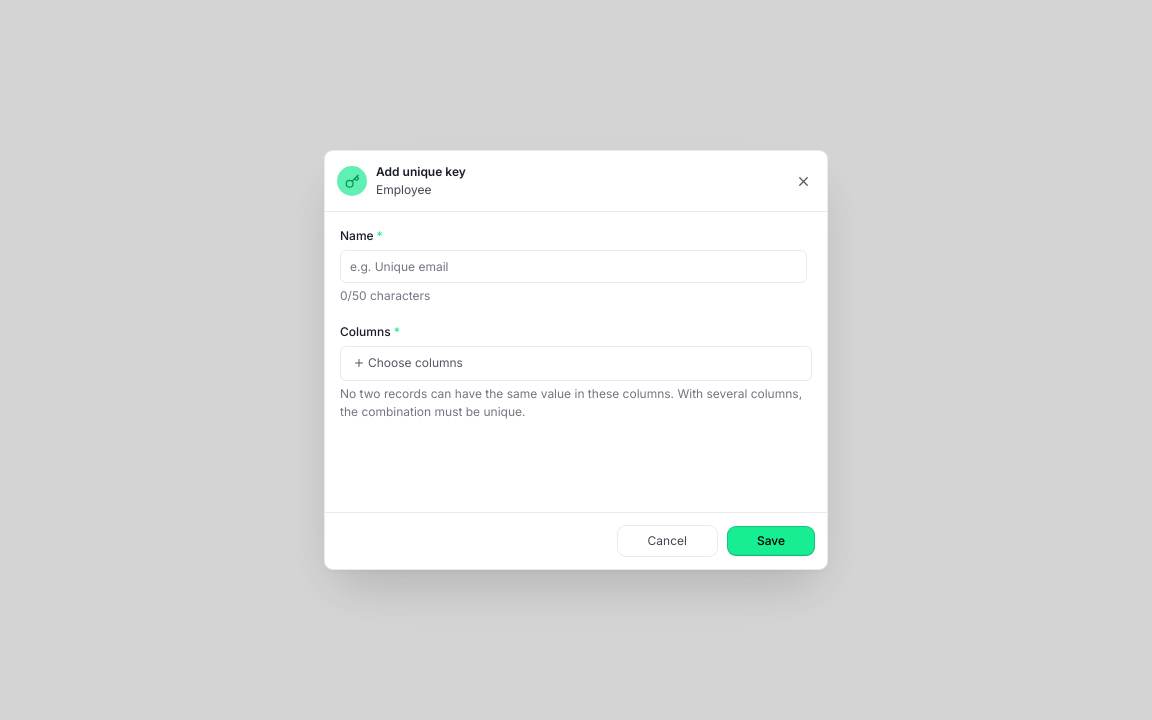
Test case: UniqueKeyFormModal › asks for a column when none is chosen
This screenshot has width=1152, height=720.
Type "Email once" into the field labelled "Name *". click: (574, 266)
box: [340,250,807,282]
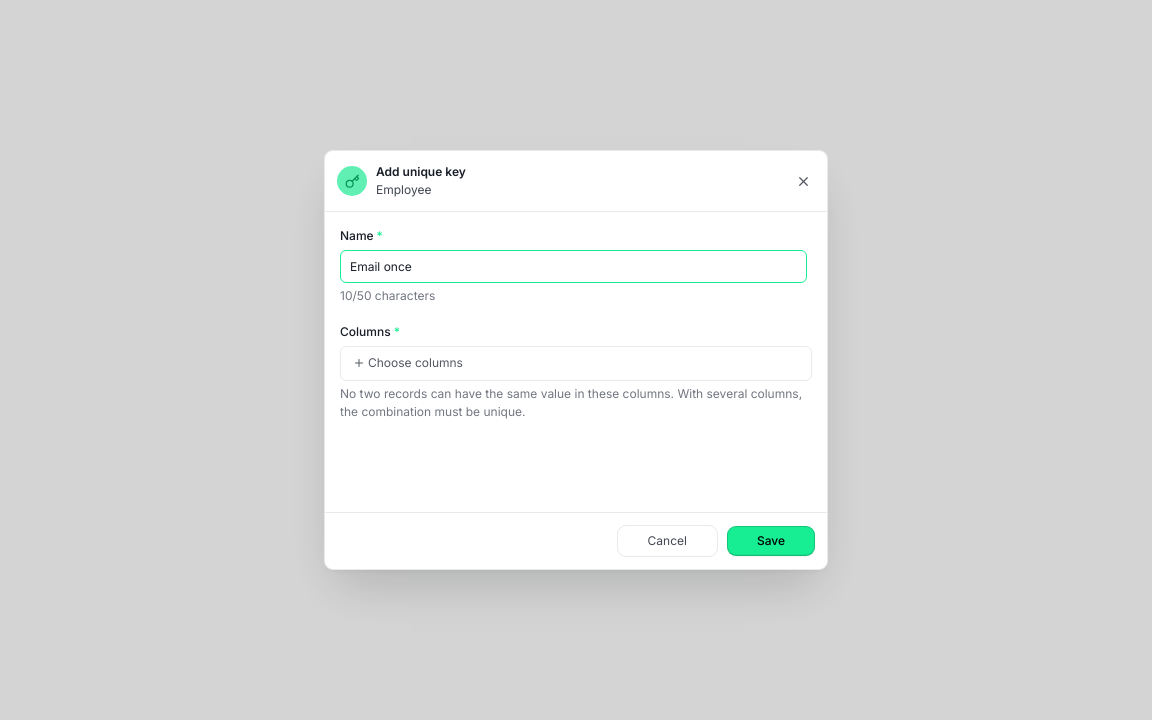
Click the button "Save". click: (771, 541)
box: [727,526,815,556]
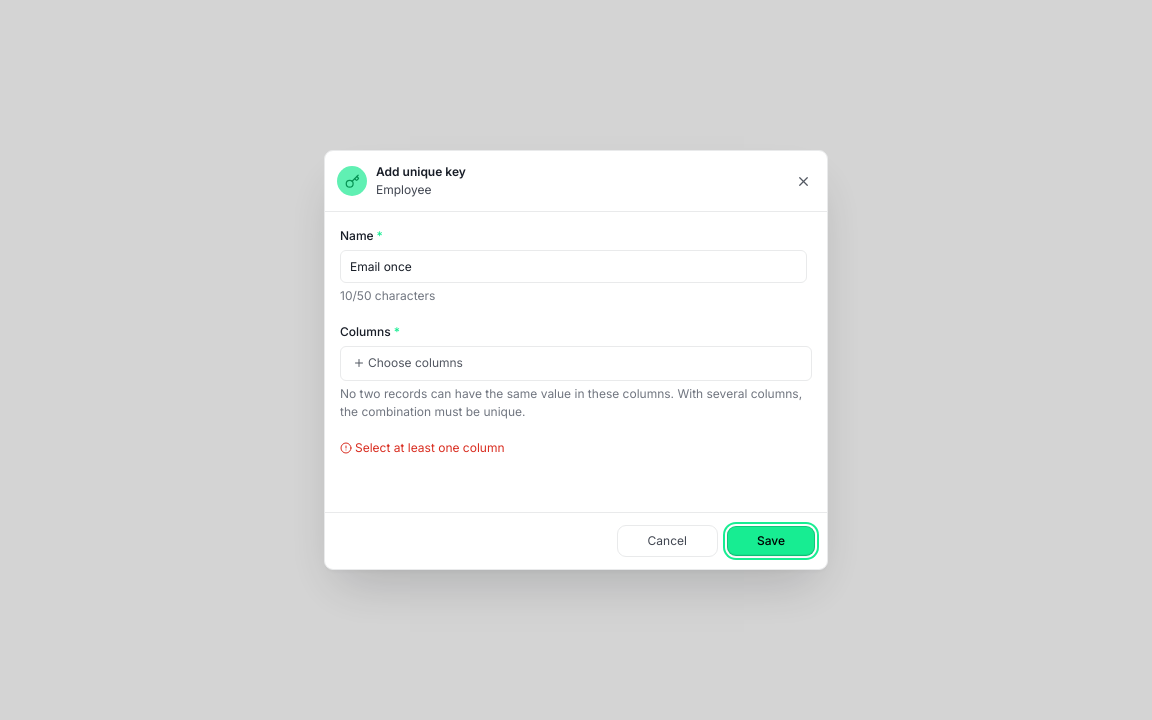
Check: the message reads "Select at least one column", box [355,440,504,455]
